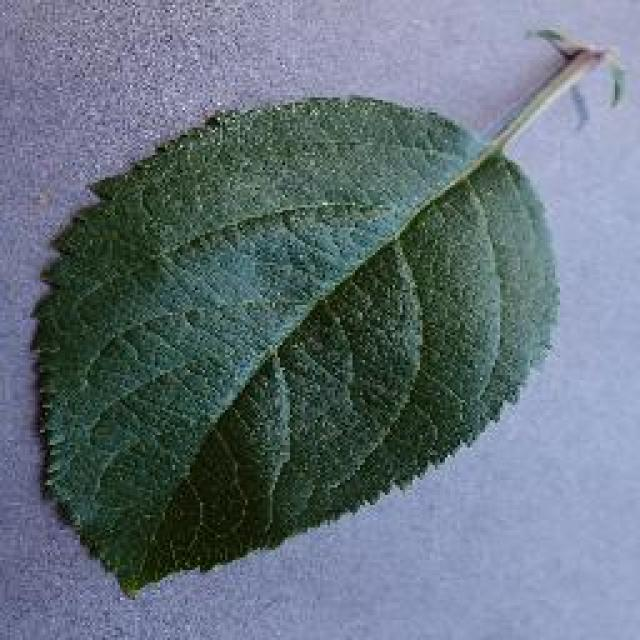apple healthy: (25, 25, 620, 597)
